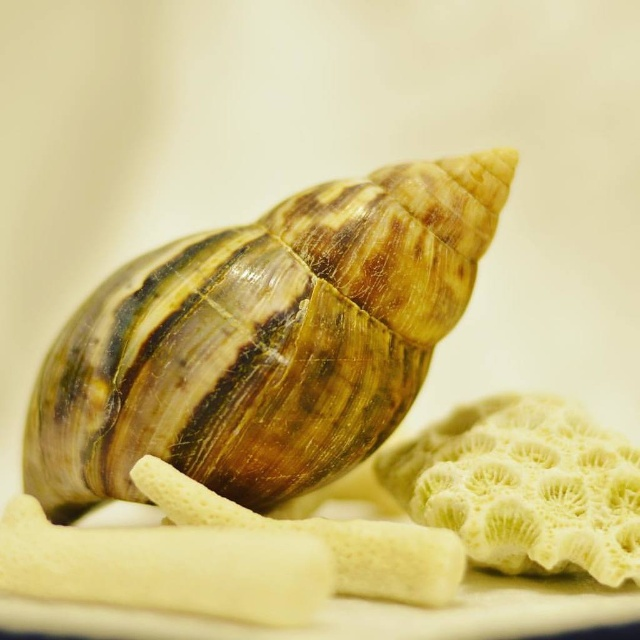Snail: (23, 145, 521, 524)
